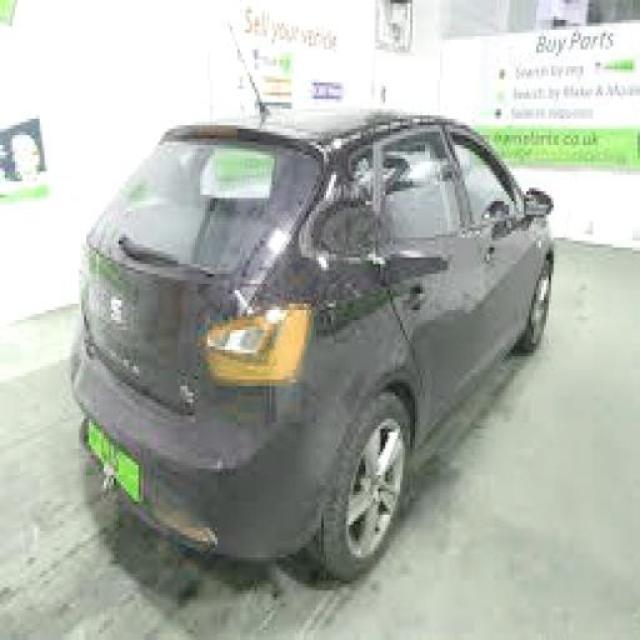car damage: (302, 187, 391, 272)
